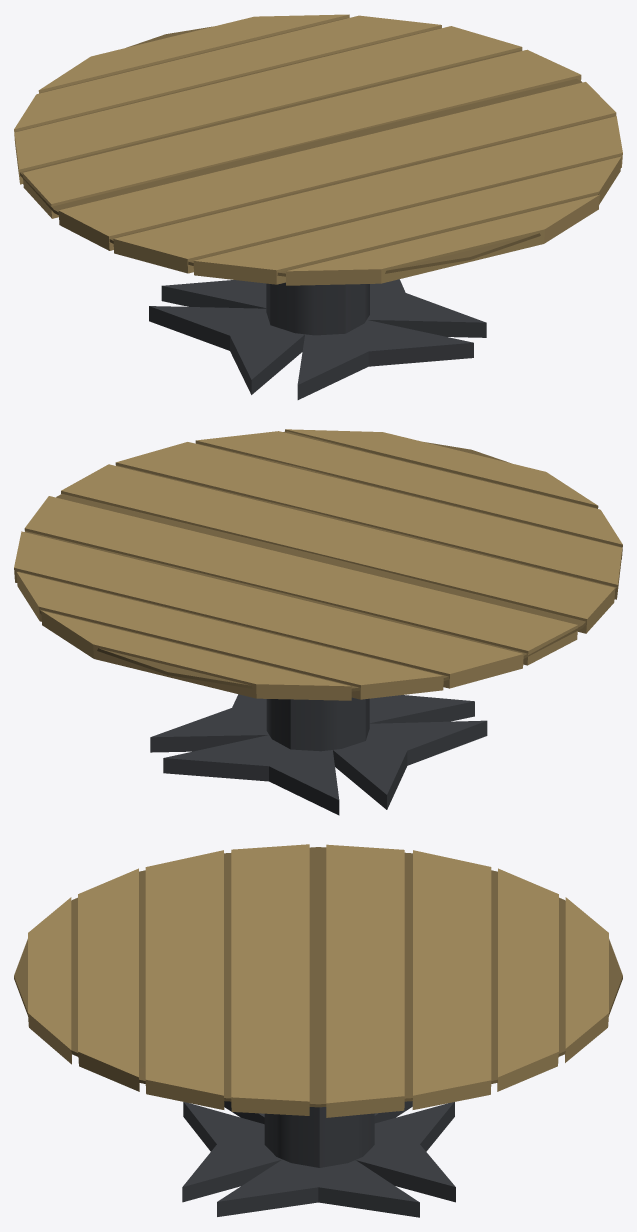
File: RoundTable.fbx
3 views of the same model, one above another, from view 1: azimuth 30°, elevation 25°; view 2: azimuth 150°, elevation 25°; view 3: azimuth 270°, elevation 25° (orthographic).
Parts seen in each view (by area): view 1: RoundTable; view 2: RoundTable; view 3: RoundTable.
Boxes of the visible parts, x1,y1,x2,y2 form: RoundTable: [14, 14, 622, 399]; RoundTable: [14, 429, 622, 815]; RoundTable: [14, 844, 622, 1217].
Bounding box in the file's own units: 604 × 203 × 600.
